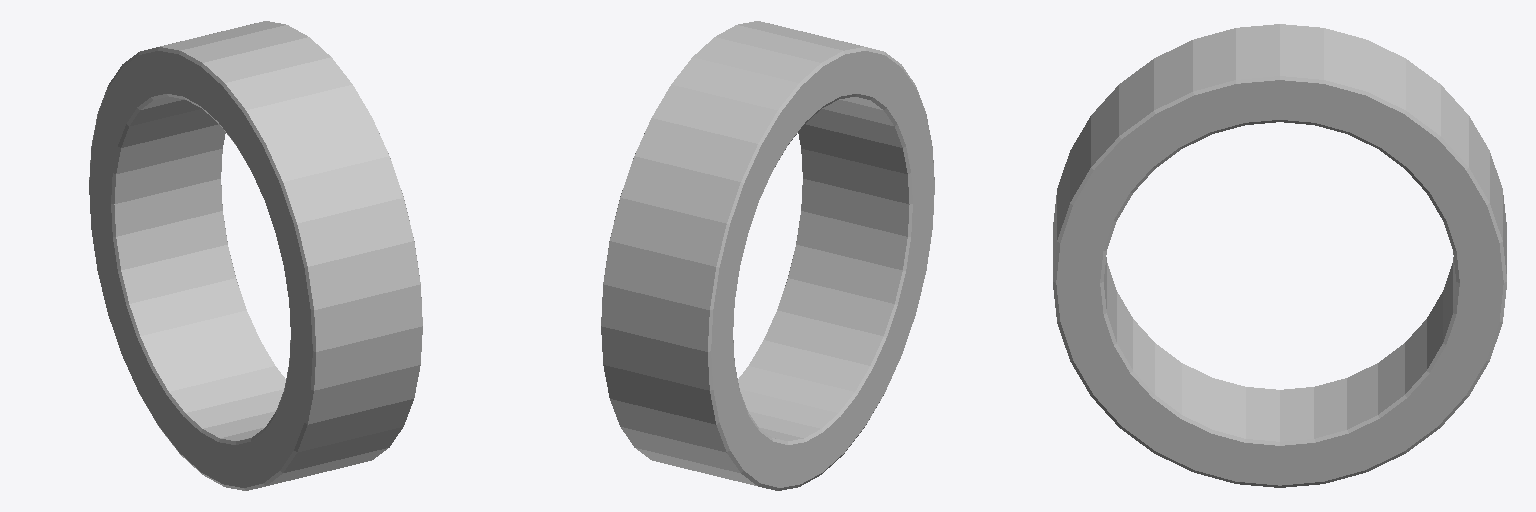
File: Kuglelager-vorne-4.obj
3 views of the same model, side by side, from view 1: azimuth 30°, elevation 25°; view 2: azimuth 150°, elevation 25°; view 3: azimuth 270°, elevation 25° (orthographic).
Parts seen in each view (by area): view 1: Circle.010; view 2: Circle.010; view 3: Circle.010.
Boxes of the visible parts, x1,y1,x2,y2 form: Circle.010: [89, 21, 422, 490]; Circle.010: [601, 21, 934, 490]; Circle.010: [1053, 24, 1506, 487].
Size of the model in its own units: 0.0187 by 0.0669 by 0.0669.